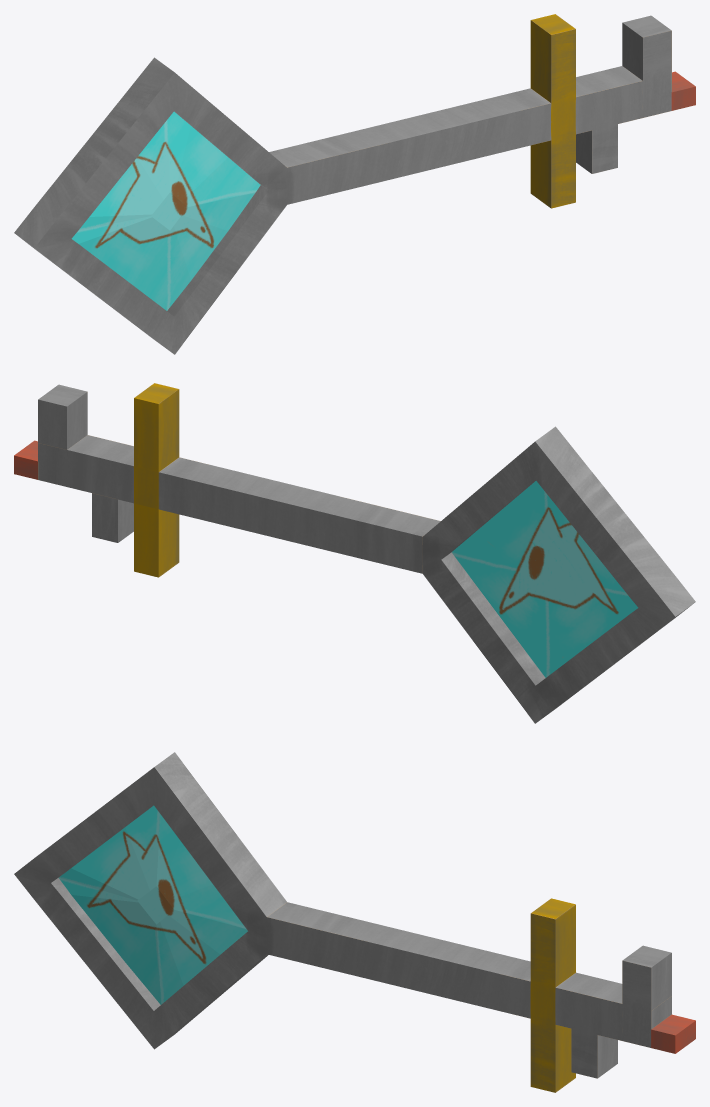
File: key_key.fbx
3 views of the same model, one above another, from view 1: azimuth 30°, elevation 25°; view 2: azimuth 150°, elevation 25°; view 3: azimuth 330°, elevation 25° (orthographic).
Parts seen in each view (by area): view 1: key; view 2: key; view 3: key.
Boxes of the visible parts, <box> form: key: <box>14,14,695,354</box>; key: <box>14,383,695,723</box>; key: <box>14,752,695,1092</box>.
Bounding box in the file's own units: 55.87 × 3 × 22.8.
